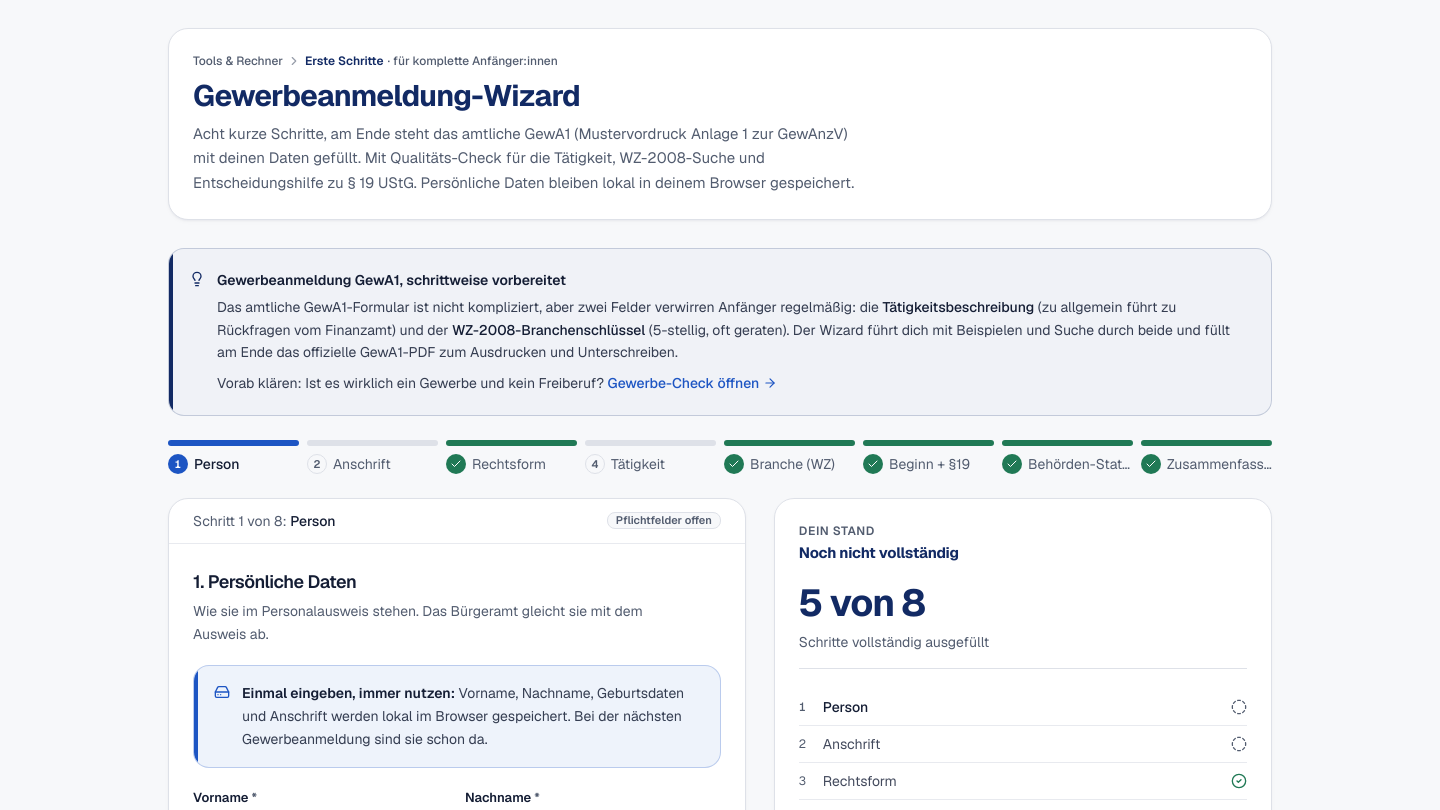
Test case: GewerbeanmeldungWizard — Steps › Step 6: KU-Status Radio-Buttons wechselbar
The image size is (1440, 810).
Click the button "Beginn + §19": (928, 457) [863,440,994,474]
(page scrolled)
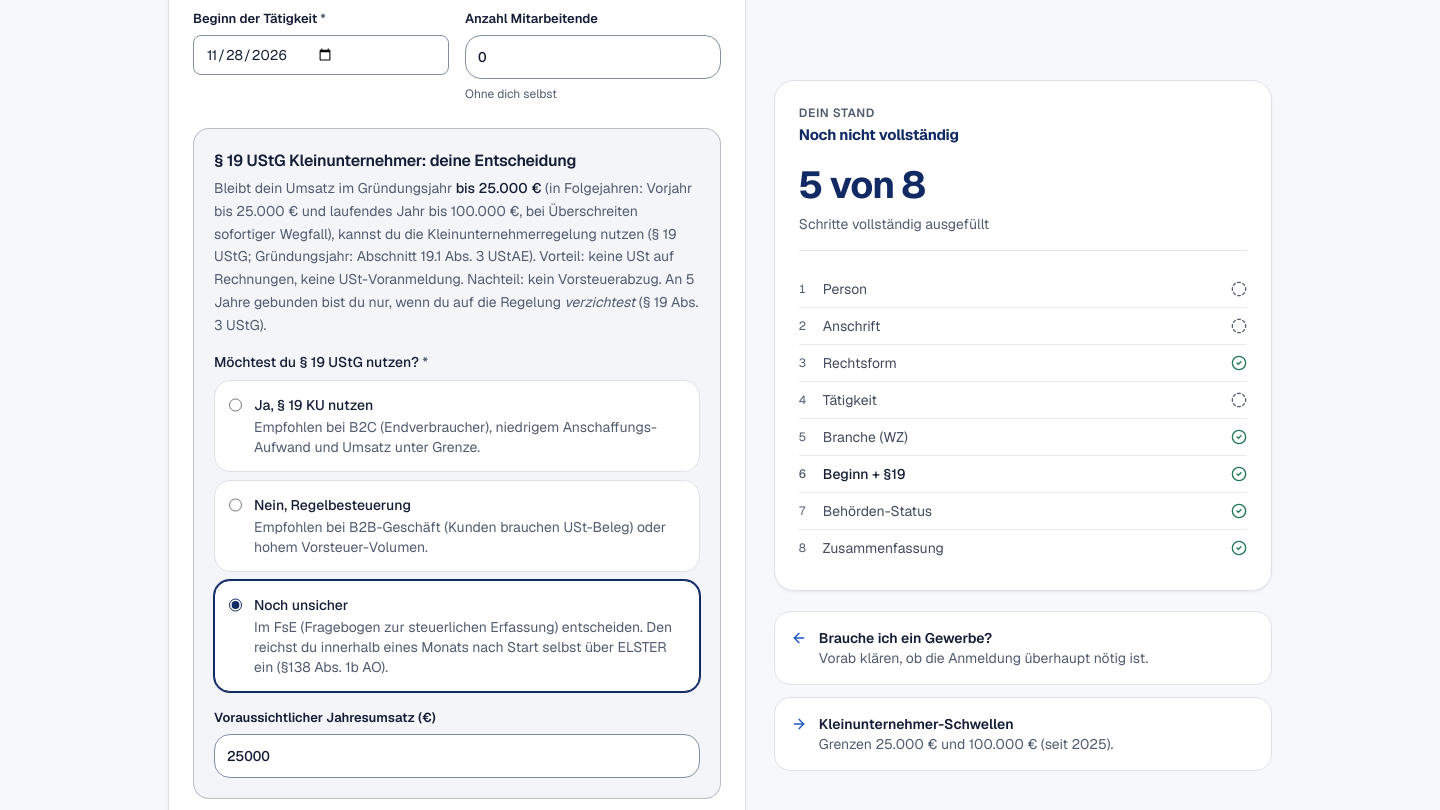
Now the number of radio buttons is 3
Click the 1st radio button: (236, 405) [229,397,242,413]
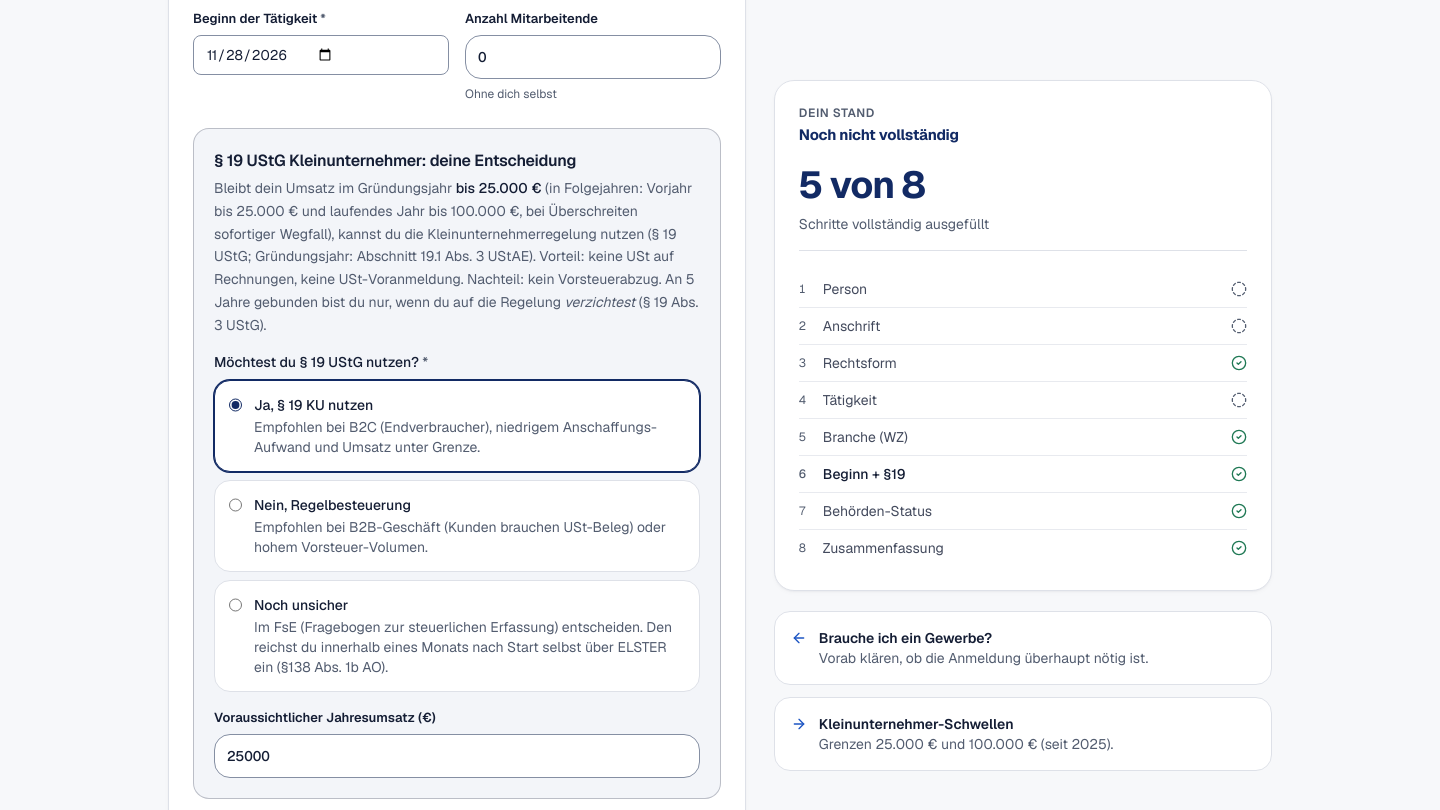
Now the 1st radio button is checked, box [229,397,242,413]
